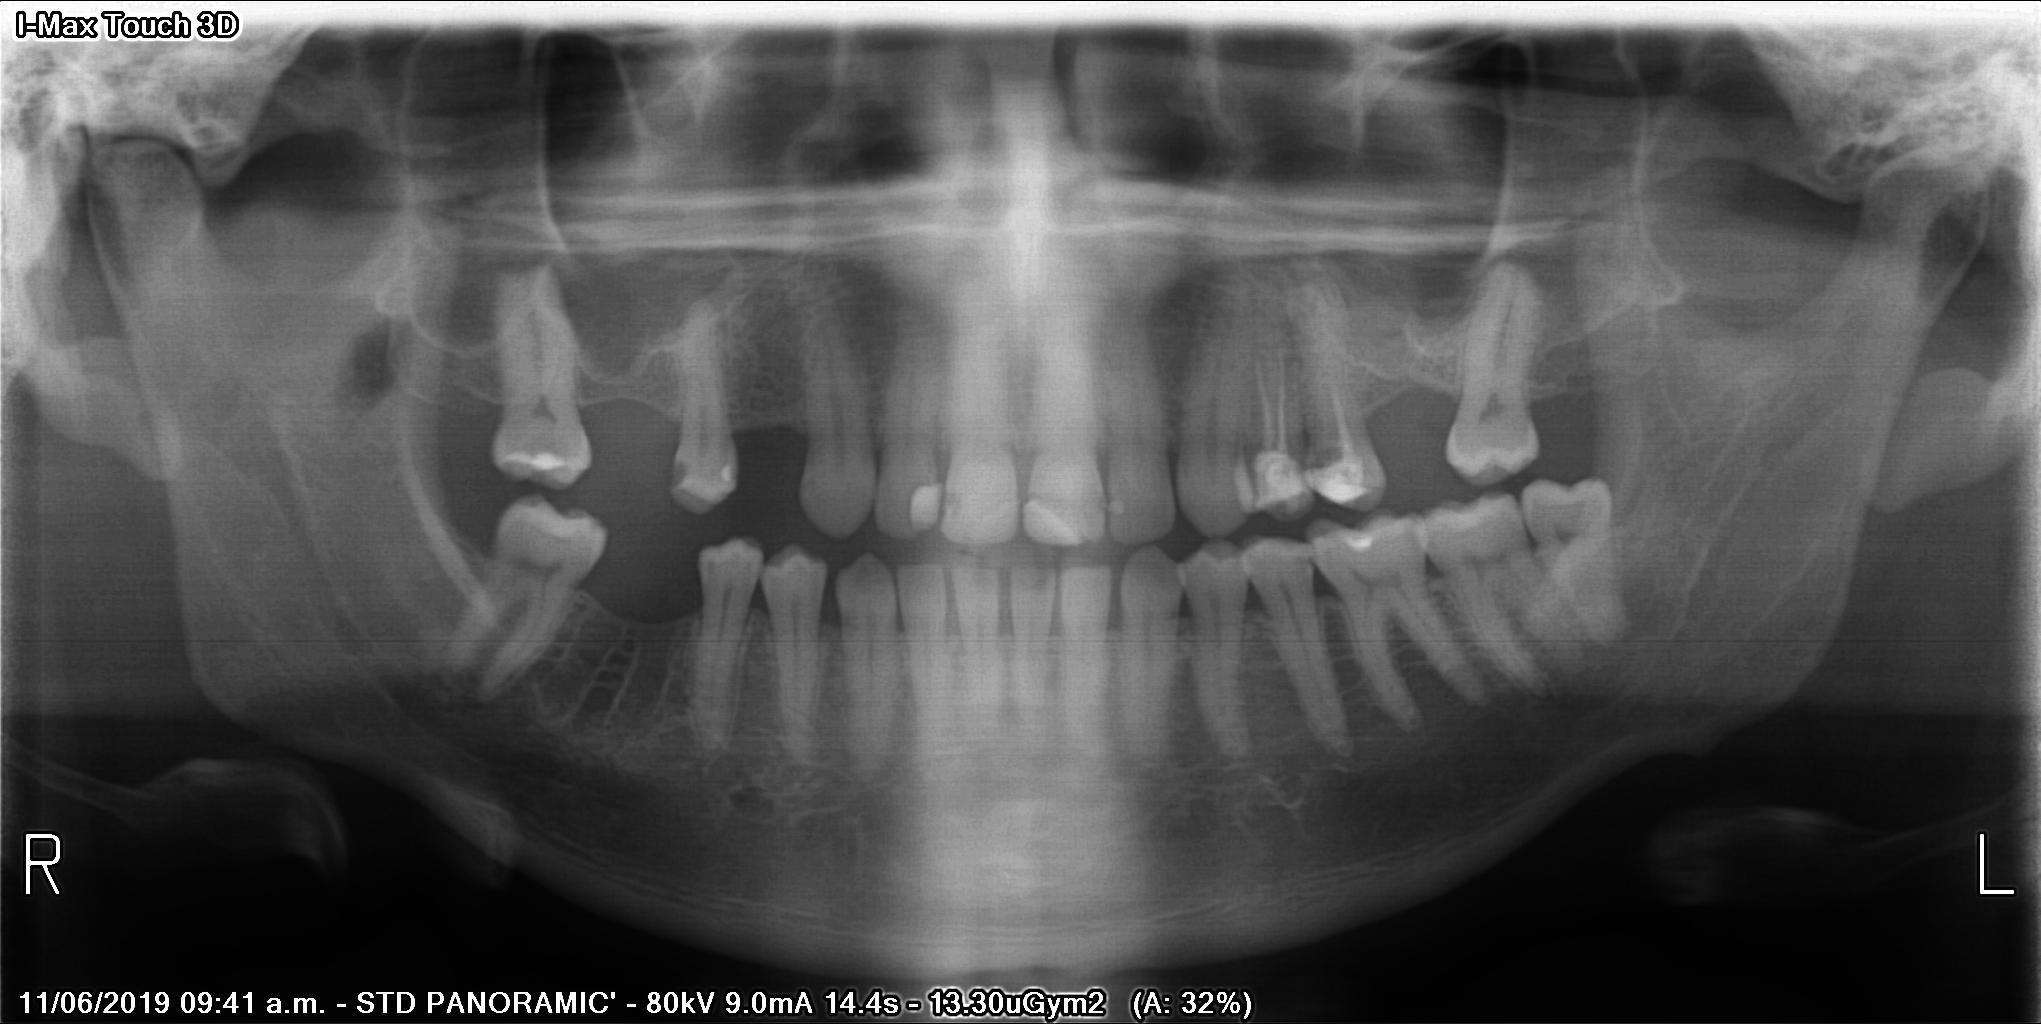Çürük: (1254, 450, 1307, 507), (1338, 528, 1408, 563), (1312, 460, 1364, 506), (513, 440, 575, 478), (906, 485, 947, 535), (720, 460, 741, 497)
Çürük Bölgesi: (1018, 484, 1064, 507), (1308, 443, 1342, 471), (665, 458, 686, 500), (948, 474, 960, 518)
